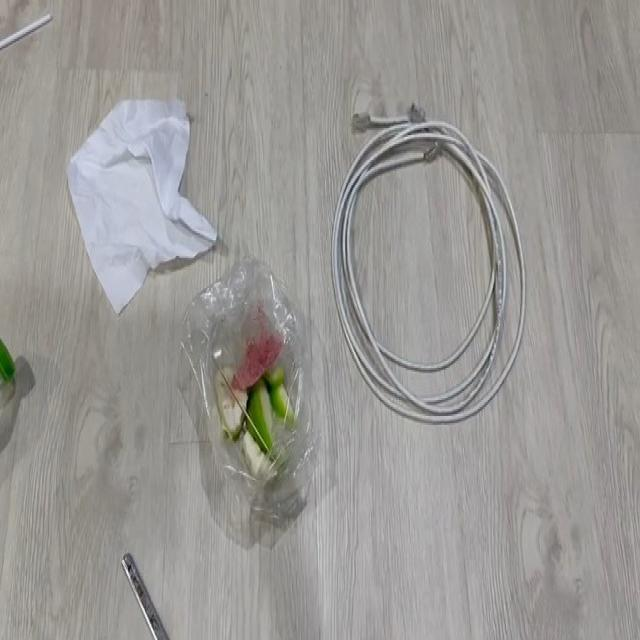Anorganik: (75, 74, 213, 298), (110, 531, 177, 640), (0, 359, 41, 493), (0, 4, 57, 69)
B3: (348, 109, 520, 410), (200, 276, 345, 516)
